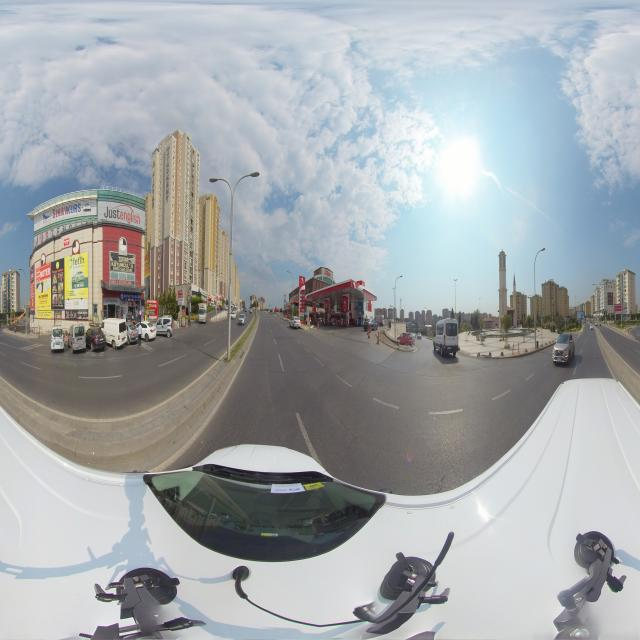SignStore: (120, 293, 141, 302), (202, 290, 208, 297), (208, 292, 210, 298)
